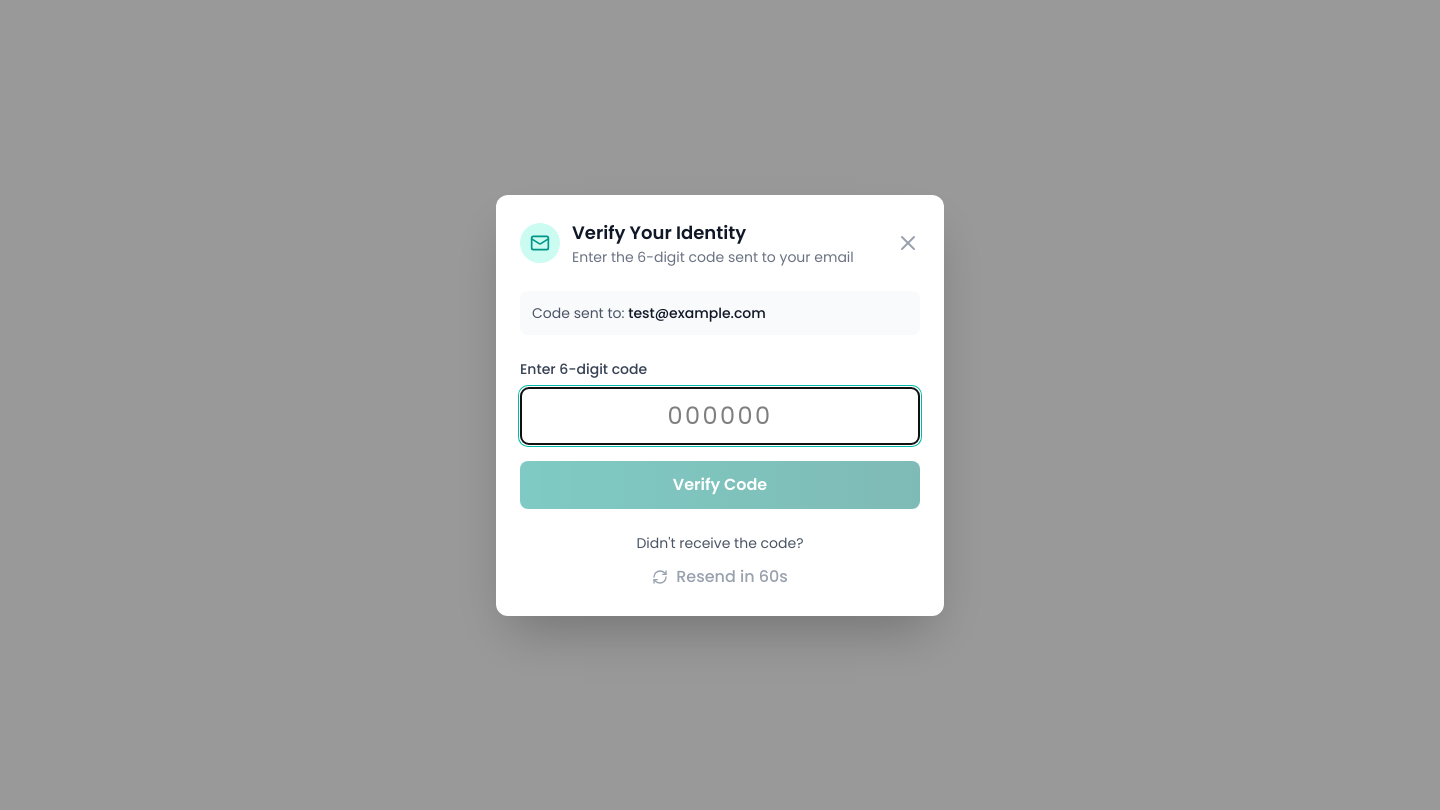
Test: OTPModal › OTP Input › should filter out non-numeric characters
The image size is (1440, 810).
Step 1. Type "abc123def456" into the field labelled "Enter 6-digit code" → point(720, 416), box 520,386 -> 920,444
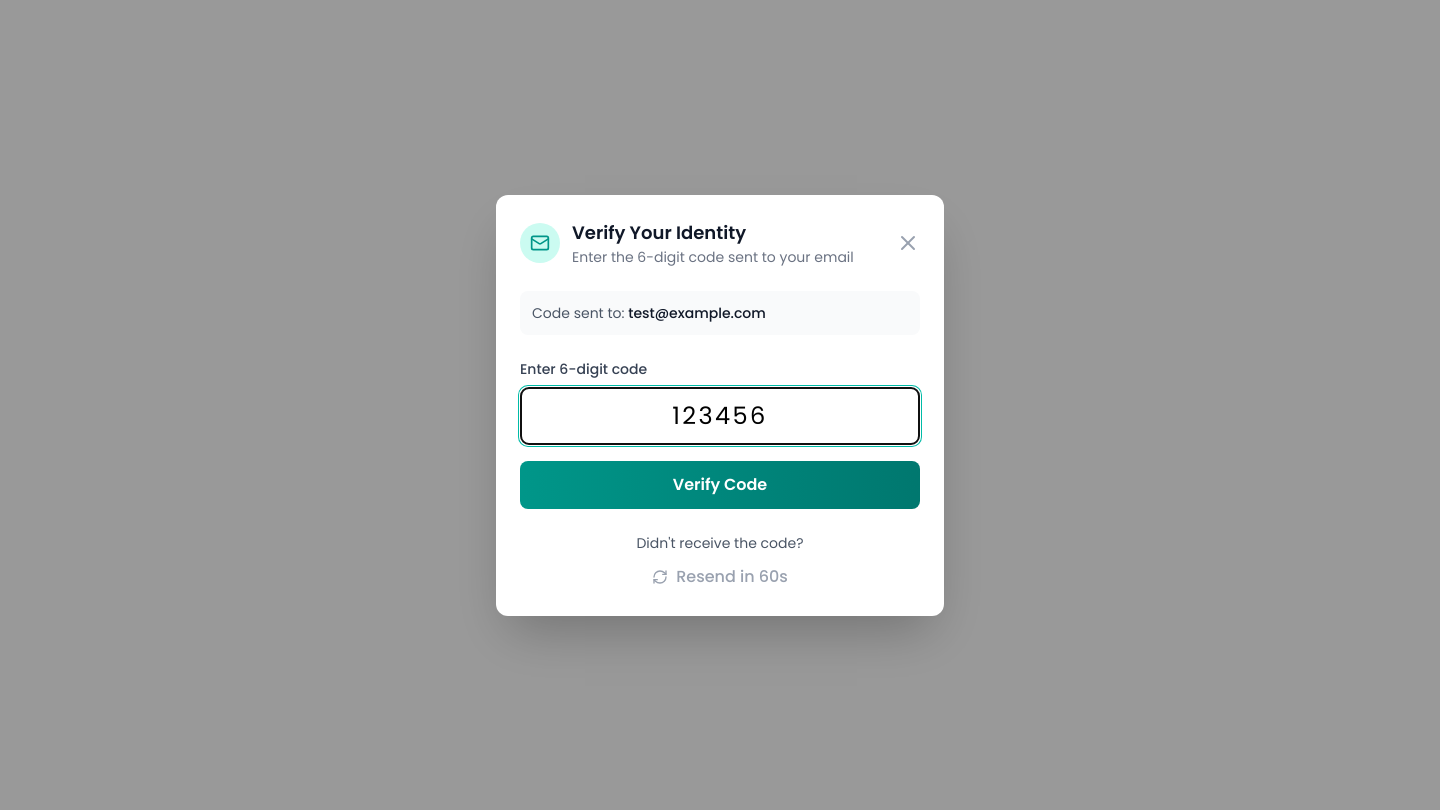
Expected: the field labelled "Enter 6-digit code" holds "123456", 520,386 -> 920,444
